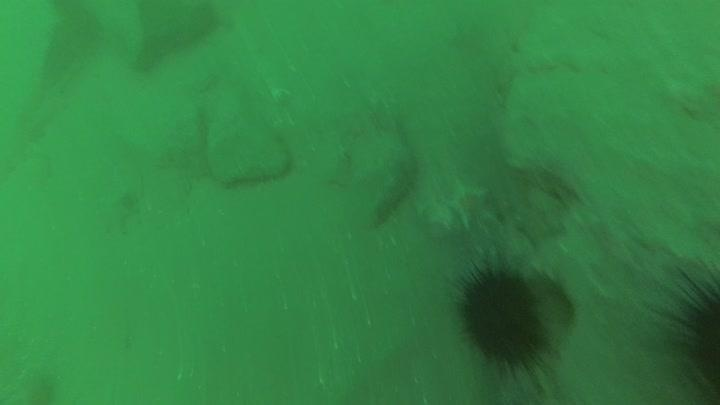echinus: (449, 256, 556, 378), (648, 259, 720, 398)
holothurian: (369, 150, 422, 227)
starfish: (440, 179, 496, 232)
